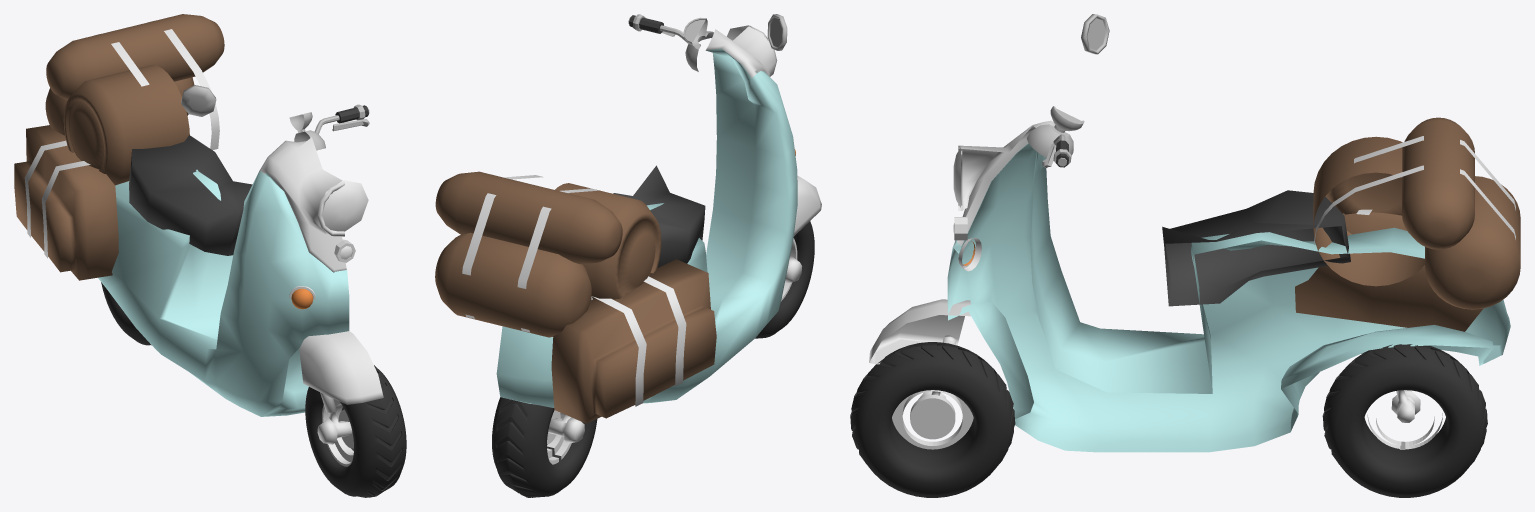
File: justbike.gltf
3 views of the same model, side by side, from view 1: azimuth 30°, elevation 25°; view 2: azimuth 150°, elevation 25°; view 3: azimuth 270°, elevation 25° (orthographic). The views are drawn at different scales.
Parts seen in each view (by area): view 1: Plane.002, Cube.002, Cylinder, Plane.003, Cylinder.002, Torus, Circle.001, Circle, Circle.004, Cube.003, Plane.009, Circle.007 (+6 smaller); view 2: Plane.002, Cube.002, Cylinder.001, Cylinder.002, Torus.002, Cylinder, Plane.003, Cube.003, Torus, Circle.004, Circle.001, Plane.008 (+4 smaller); view 3: Plane.002, Torus, Torus.002, Plane.003, Cylinder.002, Cylinder, Cube.002, Cylinder.001, Circle.001, Torus.001, Circle.004, Circle.006 (+2 smaller).
Part boxes in pixels (box(x1,y1,x2,y2)): Plane.002: box(98, 137, 349, 416); Cube.002: box(14, 125, 118, 280); Cylinder: box(63, 65, 189, 185); Plane.003: box(129, 135, 252, 255); Cylinder.002: box(46, 14, 224, 100); Torus: box(305, 365, 406, 497); Circle.001: box(299, 331, 383, 404); Circle: box(322, 180, 368, 231); Circle.004: box(289, 104, 369, 150); Cube.003: box(24, 140, 90, 258); Plane.009: box(147, 21, 219, 150); Circle.007: box(317, 392, 352, 444); Plane.002: box(496, 25, 797, 407); Cube.002: box(551, 259, 716, 423); Cylinder.001: box(435, 232, 591, 337); Cylinder.002: box(435, 171, 622, 264); Torus.002: box(492, 397, 597, 497); Cylinder: box(555, 183, 661, 300); Plane.003: box(613, 165, 705, 267); Cube.003: box(591, 276, 686, 406); Torus: box(755, 221, 814, 338); Circle.004: box(628, 14, 713, 71); Circle.001: box(793, 175, 821, 236); Plane.008: box(517, 188, 598, 332); Plane.002: box(947, 120, 1510, 452); Torus: box(850, 342, 1015, 497); Torus.002: box(1322, 344, 1487, 497); Plane.003: box(1162, 190, 1350, 306); Cylinder.002: box(1402, 117, 1474, 249); Cylinder: box(1313, 136, 1424, 286); Cube.002: box(1295, 212, 1483, 331); Cylinder.001: box(1425, 176, 1520, 309); Circle.001: box(869, 299, 970, 364); Torus.001: box(892, 390, 973, 449); Circle.004: box(1026, 106, 1084, 167); Circle.006: box(1081, 14, 1109, 54).
Bounding box in the file's own units: 2.05 × 3.52 × 4.97.
